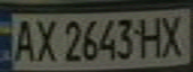2: (60, 16, 84, 63)
3: (115, 15, 139, 61)
4: (96, 16, 121, 62)
6: (78, 17, 103, 62)
A: (9, 16, 39, 63)
H: (136, 13, 166, 60)
X: (157, 11, 190, 58), (30, 16, 60, 63)
